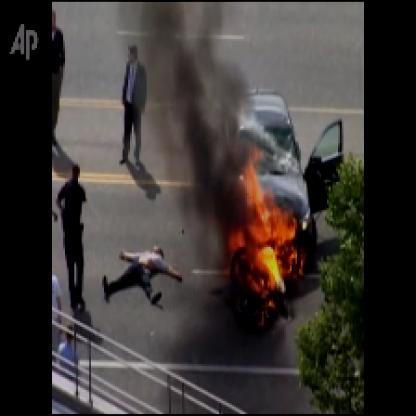Fire: (221, 143, 301, 318)
Smoke: (145, 2, 247, 234)
